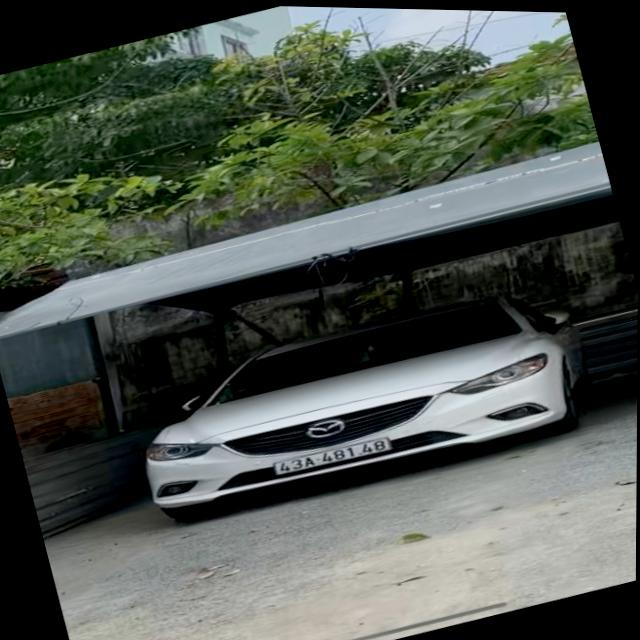car: (108, 238, 618, 555)
plate: (260, 417, 405, 492)
